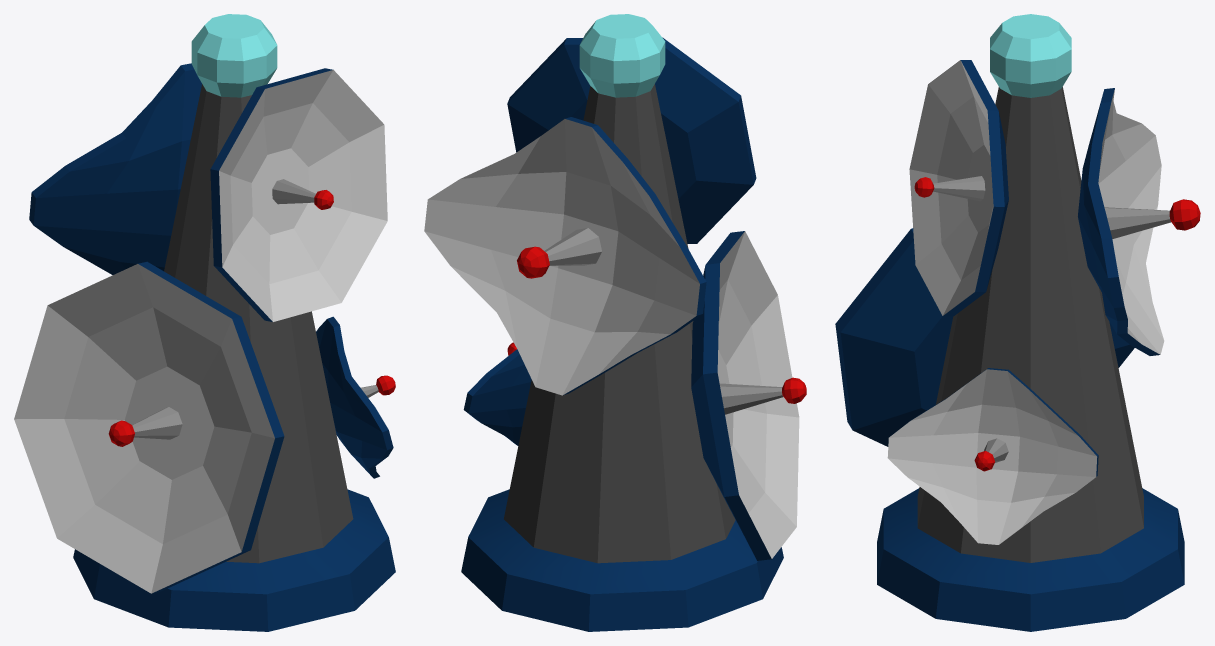
The model's file is Satellite_Dish_Tower.fbx.
3 renders of one model, left to right at view 1: azimuth 30°, elevation 25°; view 2: azimuth 150°, elevation 25°; view 3: azimuth 270°, elevation 25°, orthographic.
Visible parts, largest first — view 1: pCylinder69, Satellite_Dish_Tower, pCylinder70, pCube35, pCube36, pCylinder64 (×2), pSphere2; view 2: Satellite_Dish_Tower, pCube35, pCylinder69, pCylinder70, pCube36, pCylinder67, pCylinder64, pSphere2; view 3: Satellite_Dish_Tower, pCube36, pCylinder70, pCylinder69, pCube35, pCylinder67, pCylinder64, pSphere2.
Boxes of the visible parts, bbox=[...] form: pCylinder69: bbox=[14, 261, 284, 593]; Satellite_Dish_Tower: bbox=[73, 14, 395, 631]; pCylinder70: bbox=[210, 68, 387, 321]; pCube35: bbox=[29, 63, 201, 274]; pCube36: bbox=[316, 316, 393, 478]; pCylinder64 (×2): bbox=[132, 179, 315, 439]; pSphere2: bbox=[108, 420, 134, 446]; Satellite_Dish_Tower: bbox=[461, 14, 783, 631]; pCube35: bbox=[424, 117, 706, 395]; pCylinder69: bbox=[691, 231, 799, 560]; pCylinder70: bbox=[507, 37, 756, 243]; pCube36: bbox=[463, 349, 531, 445]; pCylinder67: bbox=[544, 228, 602, 265]; pCylinder64: bbox=[719, 383, 783, 414]; pSphere2: bbox=[517, 246, 549, 278]; Satellite_Dish_Tower: bbox=[877, 14, 1184, 631]; pCube36: bbox=[887, 368, 1098, 544]; pCylinder70: bbox=[909, 60, 1008, 316]; pCylinder69: bbox=[835, 228, 1134, 446]; pCube35: bbox=[1078, 88, 1164, 355]; pCylinder67: bbox=[1104, 207, 1170, 239]; pCylinder64: bbox=[933, 176, 985, 201]; pSphere2: bbox=[1169, 199, 1200, 230].
Size of the model in its own units: 4.54 by 4.51 by 7.31.
